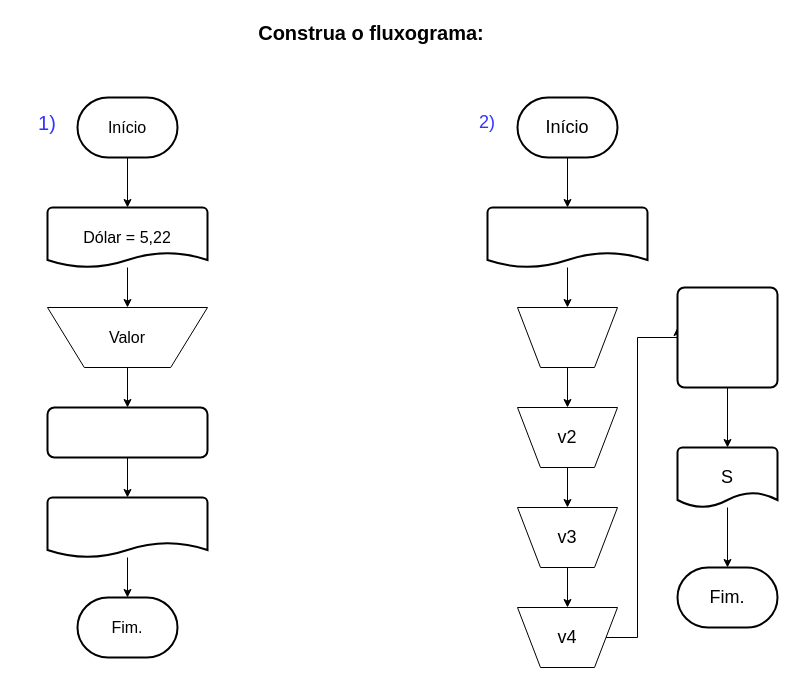
Image size: 795x685. Some labels were removed from this diagram. The shapes that lost their labels are listed below. From the top down, each one's centre as x and y in pixels, then its label:
At pixel 567 237: "Insira 4 valores".
At pixel 567 337: "v1".
At pixel 727 337: "S = (v1^2) + (v2^2) + (v3^2) + (v4^2)".
At pixel 127 432: "ConvValor = valor / dólar".
At pixel 127 527: "ConvValor".
